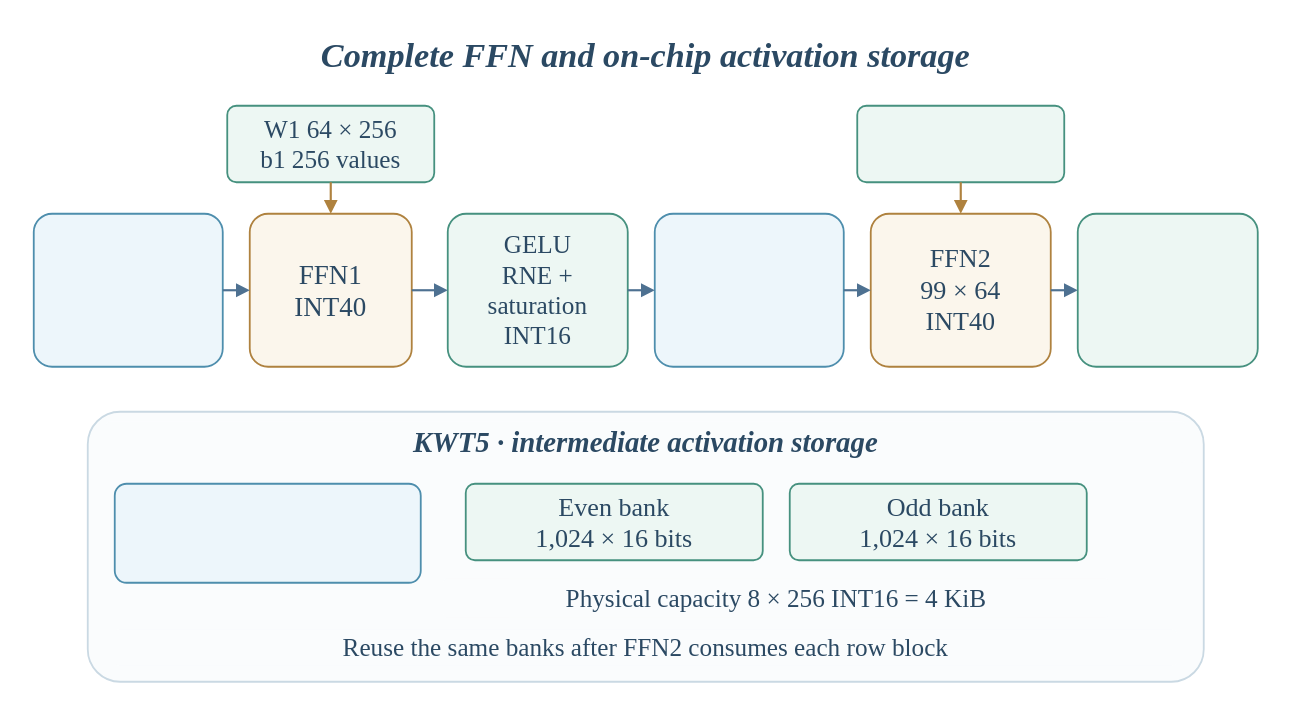
The diagram is 1291 pixels wide and 715 high, and some of its shapes have lost their labels. The centre of each missing label's shape, as x and y in pixels:
"Activation SRAM 8-row block INT16" goes at (x=748, y=289).
"LN1 input 99 × 64 INT16" goes at (x=127, y=289).
"Logical tensor 99 × 256 INT16" goes at (x=267, y=532).
"Result FIFO 40-bit To ENC1" goes at (x=1167, y=289).
"W2 256 × 64 b2 64 values" goes at (x=960, y=143).
